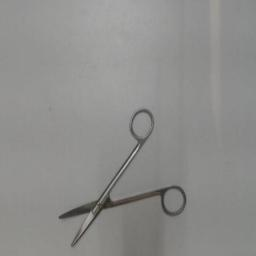Curved Mayo Scissors: (54, 102, 190, 252)
